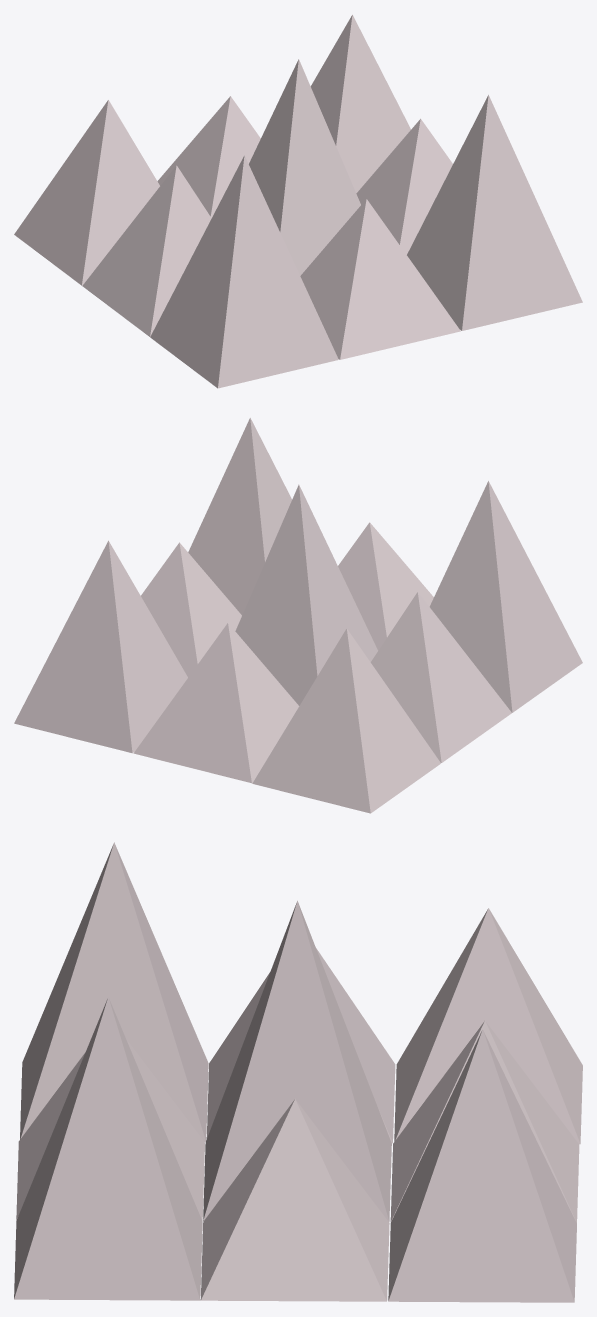
The model's file is Spikes.fbx.
3 renders of one model, top to bottom at view 1: azimuth 30°, elevation 25°; view 2: azimuth 150°, elevation 25°; view 3: azimuth 270°, elevation 25°, orthographic. The views are drawn at different scales.
Visible parts, largest first — view 1: node_id113, node_id115, node_id114, node_id111, node_id110, node_id109, node_id107, node_id108, node_id112; view 2: node_id107, node_id111, node_id113, node_id110, node_id112, node_id109, node_id115, node_id108, node_id114; view 3: node_id115, node_id107, node_id108, node_id110, node_id113, node_id111, node_id112, node_id114, node_id109.
Boxes of the visible parts, box(x1,y1,x2,y2) form: node_id113: box(150, 155, 338, 388); node_id115: box(407, 95, 582, 330); node_id114: box(300, 199, 460, 359); node_id111: box(14, 100, 159, 285); node_id110: box(249, 59, 360, 275); node_id109: box(82, 165, 211, 336); node_id107: box(310, 14, 410, 193); node_id108: box(356, 118, 452, 254); node_id112: box(157, 96, 260, 217); node_id107: box(14, 540, 187, 753); node_id111: box(252, 628, 440, 813); node_id113: box(429, 481, 582, 712); node_id110: box(235, 484, 377, 705); node_id112: box(133, 623, 299, 783); node_id109: box(370, 592, 511, 762); node_id115: box(188, 418, 291, 615); node_id108: box(141, 542, 241, 677); node_id114: box(338, 522, 433, 650); node_id115: box(14, 997, 202, 1300); node_id107: box(388, 1029, 576, 1302); node_id108: box(200, 1099, 389, 1301); node_id110: box(203, 900, 391, 1221); node_id113: box(20, 842, 208, 1141); node_id111: box(394, 908, 582, 1144); node_id112: box(390, 1021, 579, 1222); node_id114: box(16, 1039, 204, 1220); node_id109: box(206, 948, 395, 1143).
Bounding box in the file's own units: 4.86 × 2.66 × 4.86.
9 materials, 9 textured.
